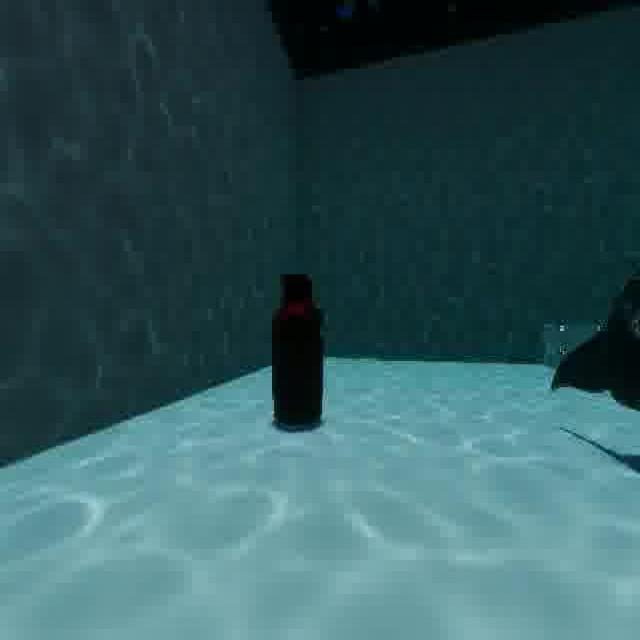Cylinder: (264, 262, 334, 447)
Docking Station: (539, 306, 607, 377)
Whale: (539, 250, 640, 430)
